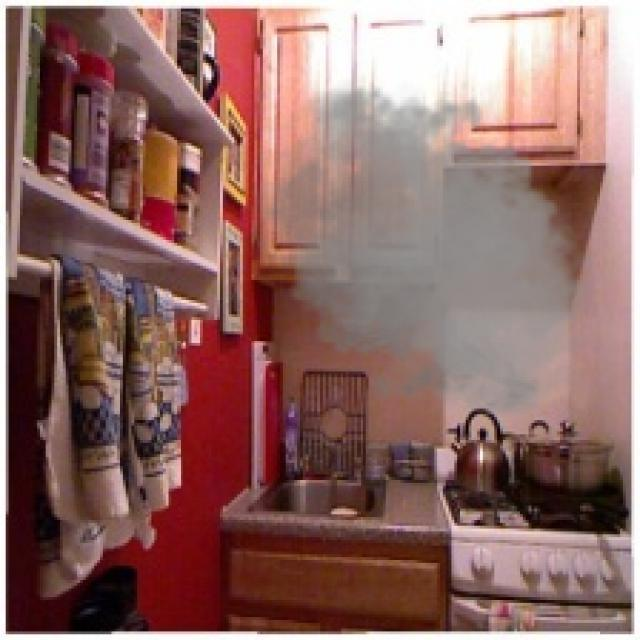Smoke: (243, 74, 600, 423)
